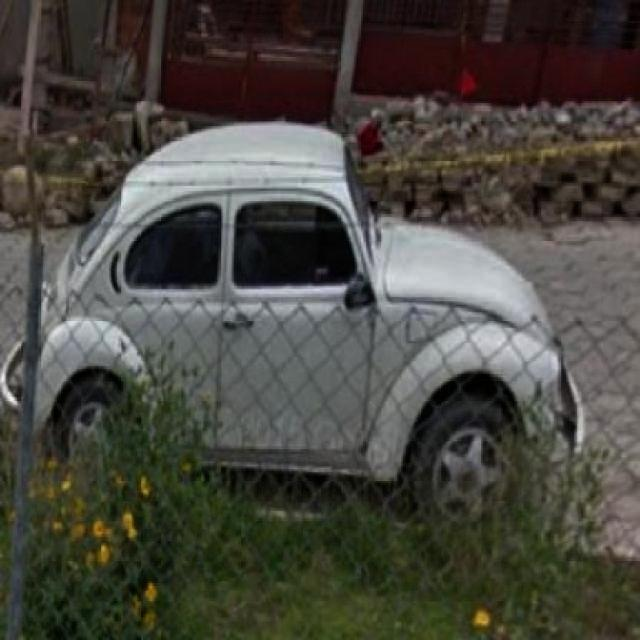car: (18, 154, 592, 530)
